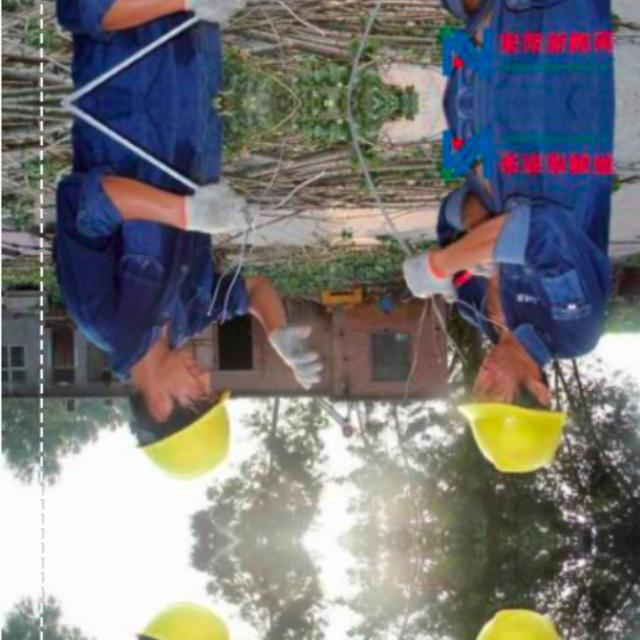safetyhelmet: (119, 339, 243, 492), (456, 336, 580, 478)
